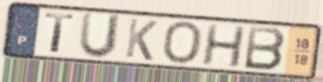B: (242, 24, 288, 72)
H: (200, 23, 247, 69)
K: (123, 17, 160, 63)
O: (160, 20, 204, 66)
T: (44, 11, 77, 55)
U: (77, 11, 124, 61)
